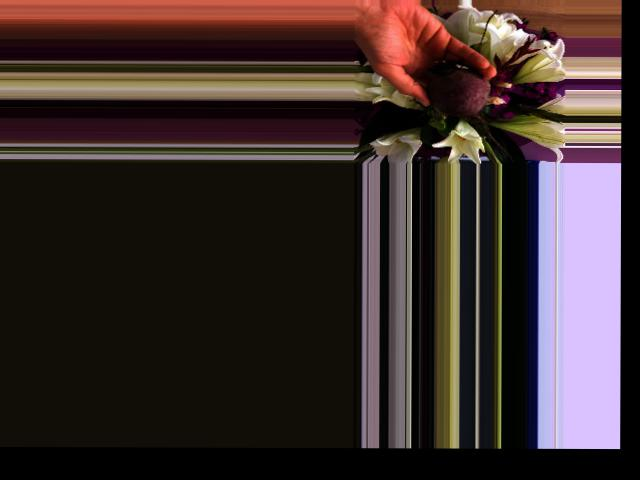beet: (427, 60, 514, 160)
